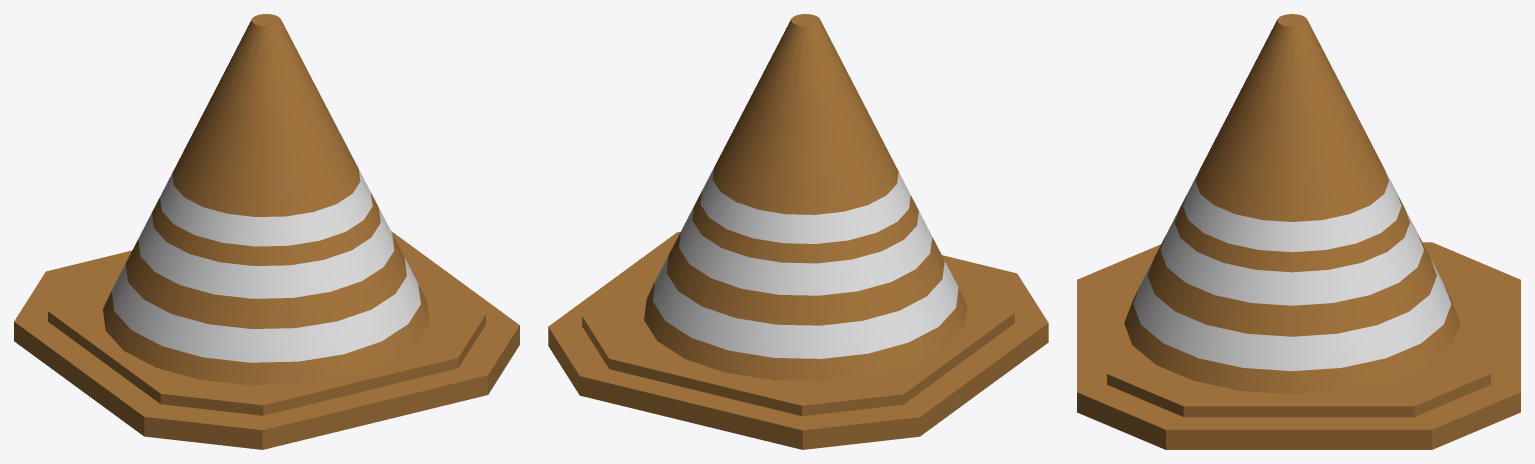
The model's file is Traffic_Cone.fbx.
3 views of the same model, side by side, from view 1: azimuth 30°, elevation 25°; view 2: azimuth 150°, elevation 25°; view 3: azimuth 270°, elevation 25° (orthographic). The views are drawn at different scales.
Visible parts, largest first — view 1: traffic_Cone; view 2: traffic_Cone; view 3: traffic_Cone.
Part boxes in pixels (box(x1,y1,x2,y2)): traffic_Cone: box(14, 14, 519, 449); traffic_Cone: box(548, 14, 1048, 449); traffic_Cone: box(1077, 14, 1520, 449).
Size of the model in its own units: 16.87 by 14 by 16.87.
